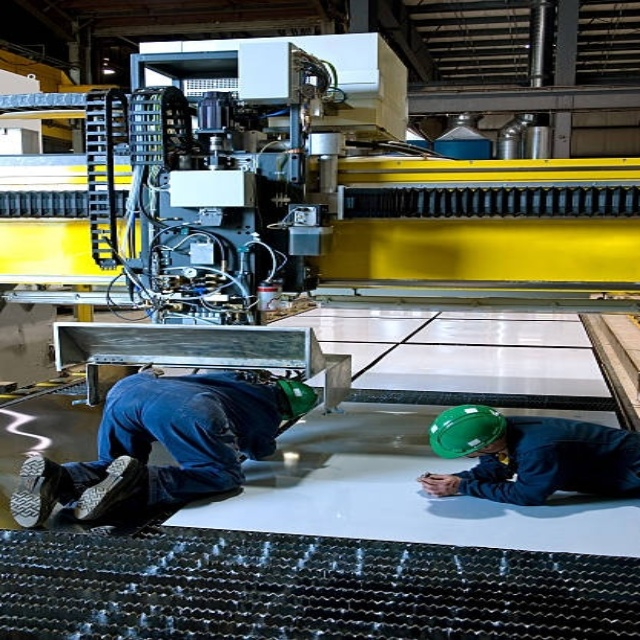Sin_guantes: (417, 472, 462, 497)
